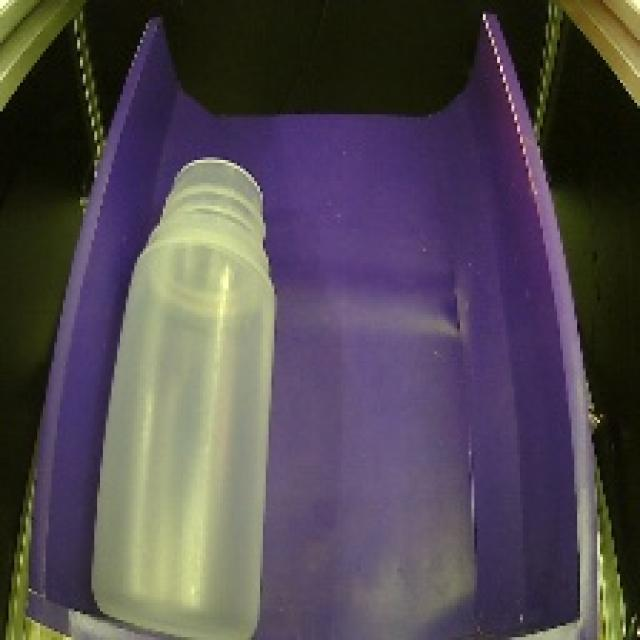plastic: (70, 139, 288, 640)
